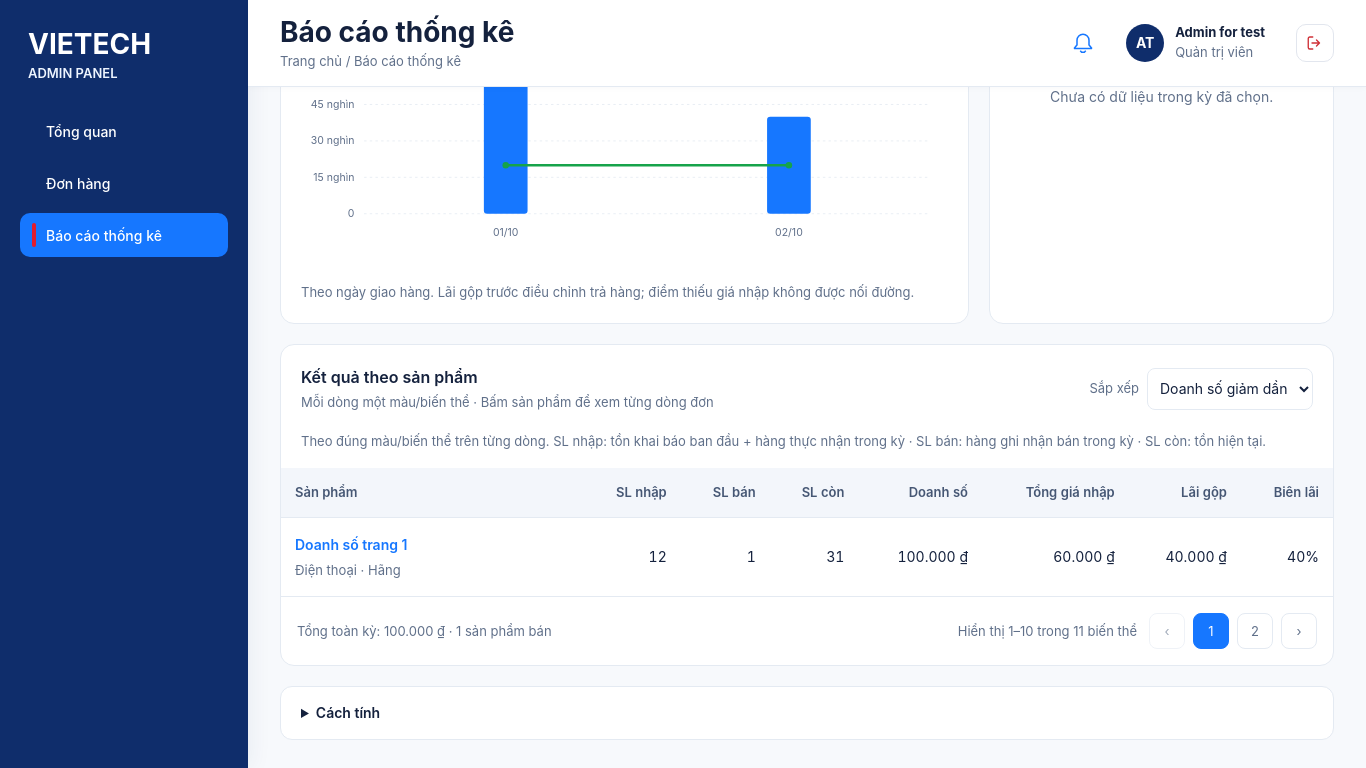
it: pagination and server sorting preserve filters and reset to the first page
(page scrolled)
Expected: the button "Doanh số trang 1" is shown, [295,534,407,557]
Click the button named "Trang sau": click(1299, 631) [1281,613,1317,649]
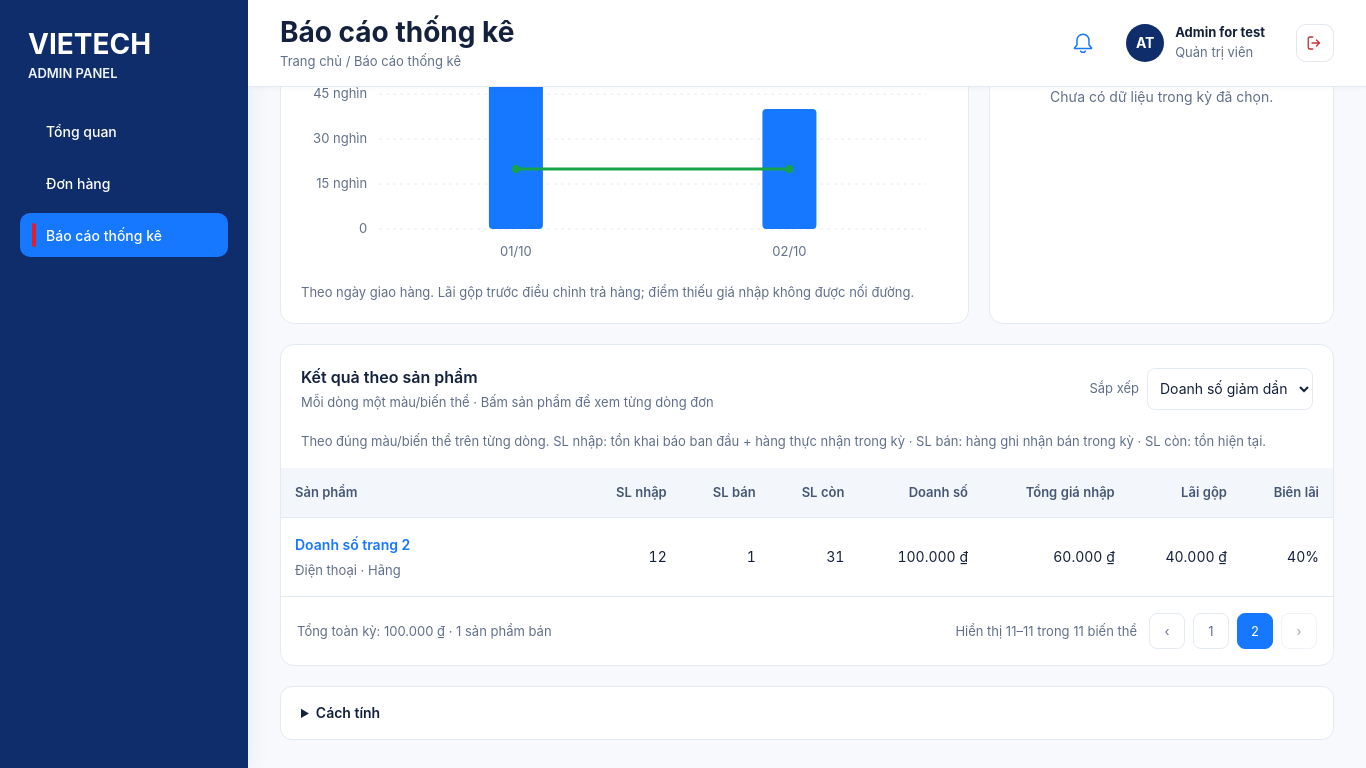
Expected: the button "Doanh số trang 2" is shown, [295,534,410,557]
Select "Lãi gộp tăng dần" in the dropdown named "Sắp xếp sản phẩm": (1230, 389) [1147,368,1313,410]
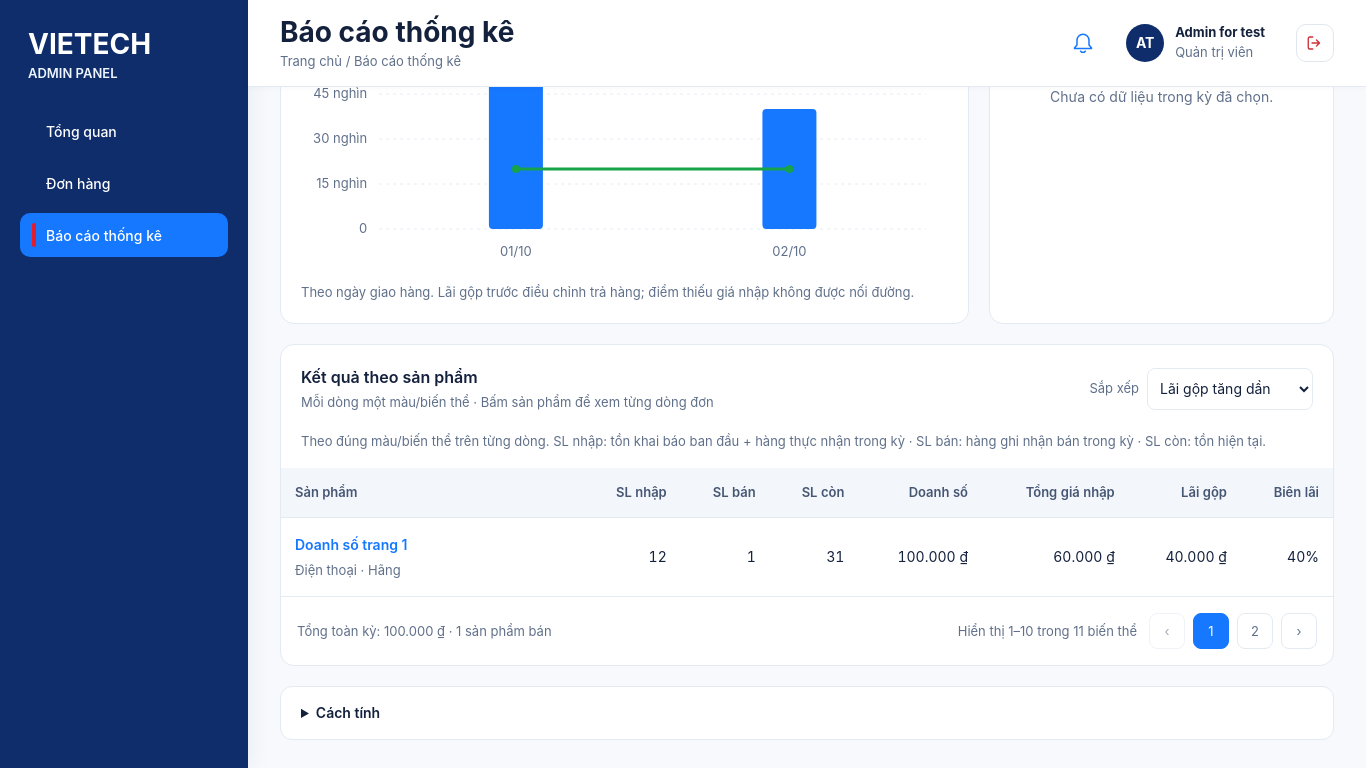
Expected: the button "Doanh số trang 1" is shown, [295,534,407,557]
